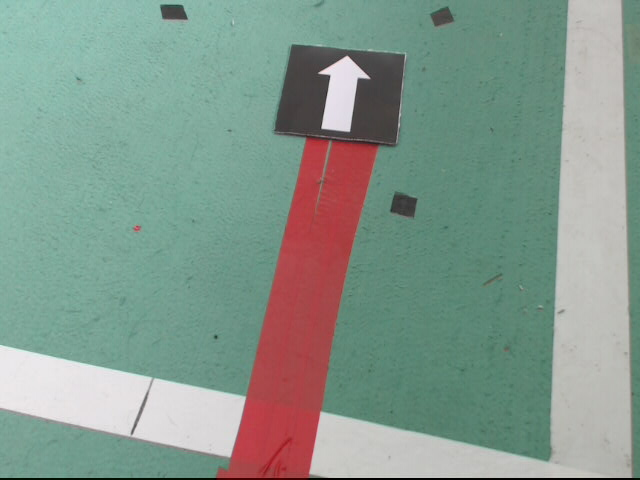straight: (274, 44, 407, 148)
